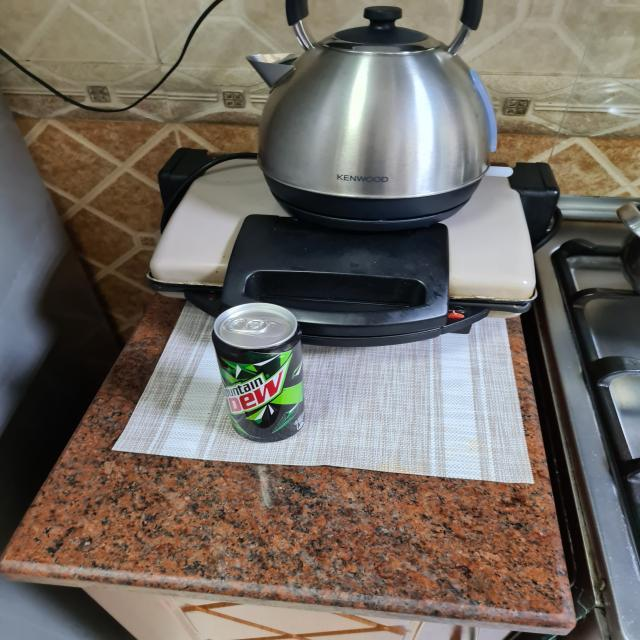can: (210, 299, 310, 445)
